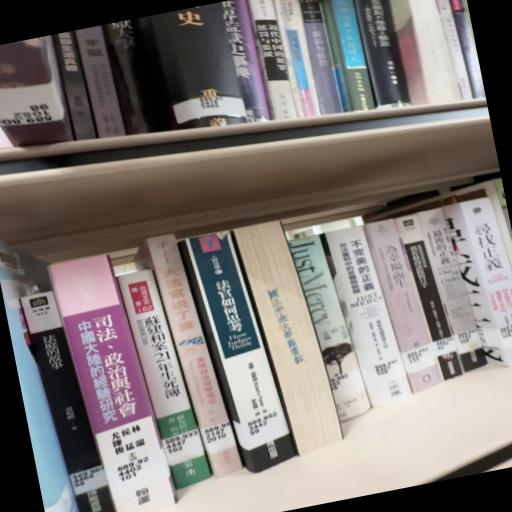backward: (233, 222, 344, 457)
book: (52, 251, 185, 512), (184, 228, 302, 481), (114, 254, 215, 503), (146, 234, 241, 491), (238, 221, 337, 465), (288, 226, 372, 434), (401, 1, 461, 108), (79, 26, 131, 142)
